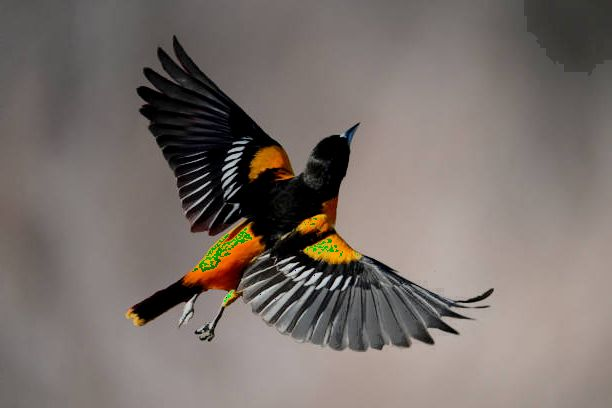Bird: (120, 29, 495, 355)
